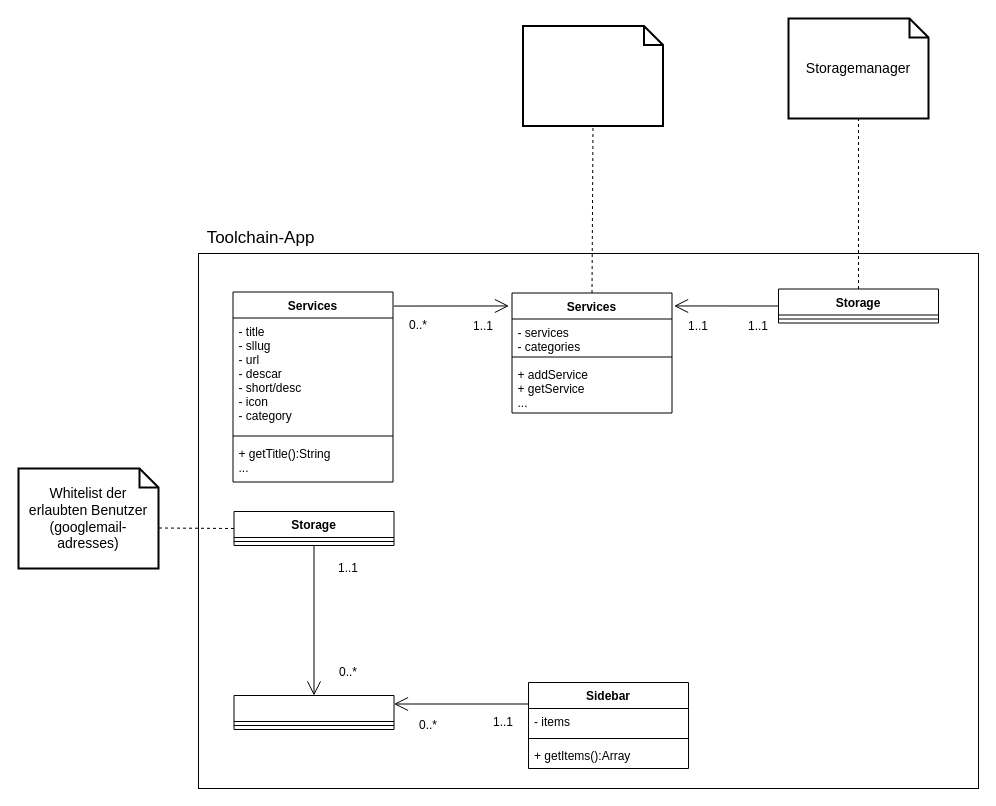
This 996x806 diagram has some shape labels left out. Here are the shapes that lost their labels. From the top down, the centre of each, then its label:
At point (593, 75): "Servicemanager".
At point (313, 712): "User".
